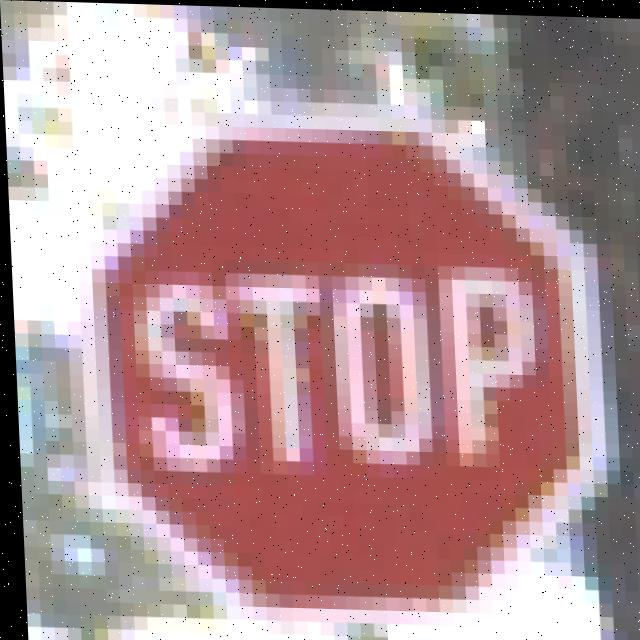stop: (52, 120, 617, 611)
